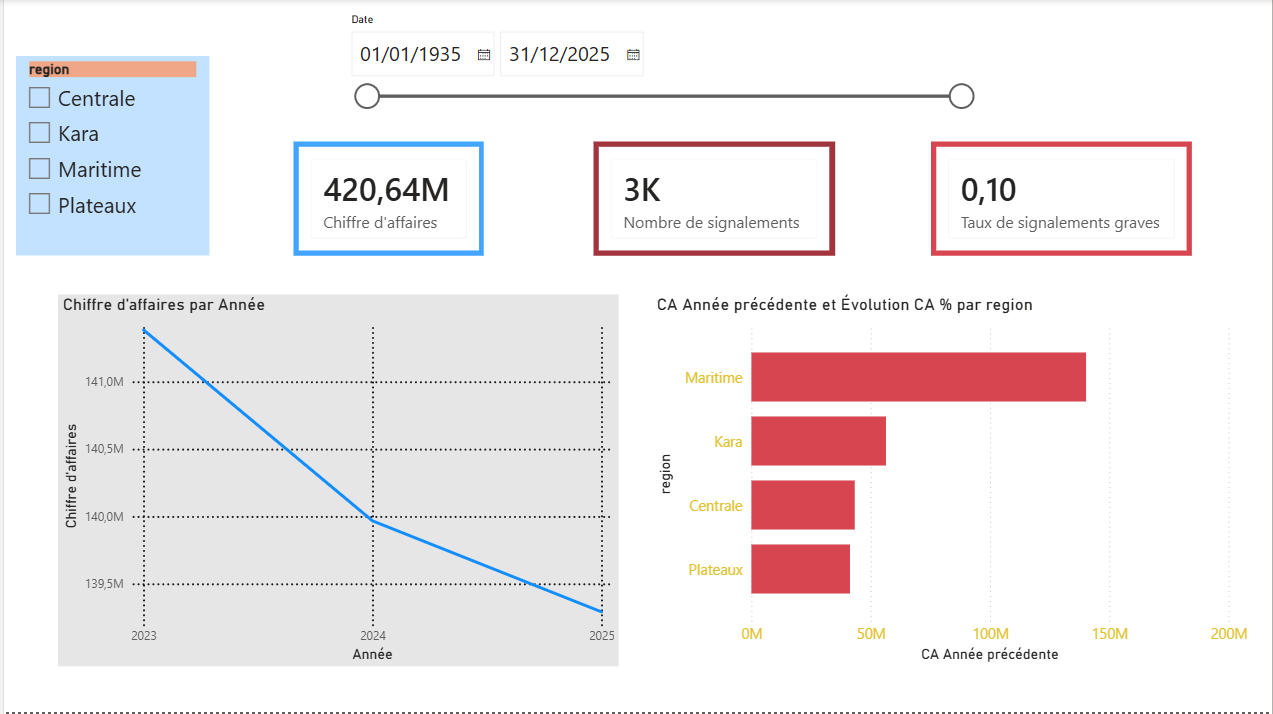

What the dashboard file says about the page in this screenshot:
{"tool":"powerbi","page":{"name":"Synthèse ","canvas":[1280,720],"ordinal":0},"visuals":[{"type":"cardVisual","fields":{"Data":["public fact_ventes.Chiffre d'affaires"]},"box":[292.2,143.8,192.3,115.1],"z":0},{"type":"cardVisual","fields":{"Data":["public fact_signalements.Nombre de signalements"]},"box":[595.1,143.8,243.8,115.1],"z":1000},{"type":"cardVisual","fields":{"Data":["public fact_signalements.Taux de signalements graves"]},"box":[935.8,143.8,263.5,115.1],"z":2000},{"type":"lineChart","fields":{"Y":["public fact_ventes.Chiffre d'affaires"],"Category":["Dim Date.Année Hiérarchie.Année","Dim Date.Année Hiérarchie.Trimestre","Dim Date.Année Hiérarchie.Mois"]},"box":[54.5,298.3,566.3,375.5],"z":2001},{"type":"clusteredBarChart","fields":{"Category":["public dim_pharmacies.region"],"Y":["public fact_ventes.CA Année précédente"]},"box":[654.1,298.3,605.7,375.5],"z":2002},{"type":"slicer","fields":{"Values":["public dim_pharmacies.region"]},"box":[12.1,57.5,195.3,201.4],"z":2003},{"type":"slicer","fields":{"Values":["Dim Date.Date"]},"box":[337.7,9.1,649.6,107.5],"z":2004}]}

Visuals, with their boxes in screenshot pixels (x1, y1, x2, y2), scaled from the page's 1280x720 canvas onto the 1273x714 screenshot:
cardVisual - public fact_ventes.Chiffre d'affaires: [left=291, top=143, right=482, bottom=257]
cardVisual - public fact_signalements.Nombre de signalements: [left=592, top=143, right=834, bottom=257]
cardVisual - public fact_signalements.Taux de signalements graves: [left=931, top=143, right=1193, bottom=257]
lineChart - public fact_ventes.Chiffre d'affaires x Dim Date.Année Hiérarchie.Année: [left=54, top=296, right=617, bottom=668]
clusteredBarChart - public dim_pharmacies.region x public fact_ventes.CA Année précédente: [left=651, top=296, right=1253, bottom=668]
slicer - public dim_pharmacies.region: [left=12, top=57, right=206, bottom=257]
slicer - Dim Date.Date: [left=336, top=9, right=982, bottom=116]
